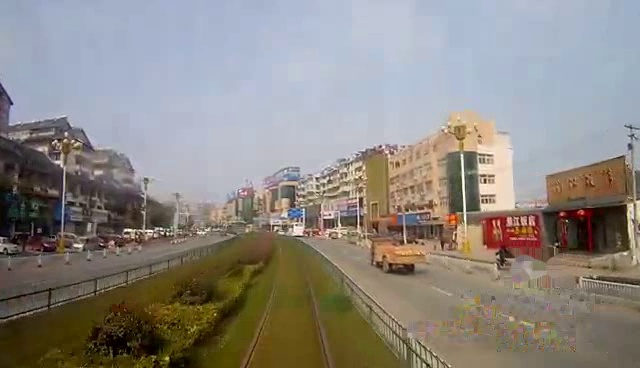car: (371, 229, 427, 276)
